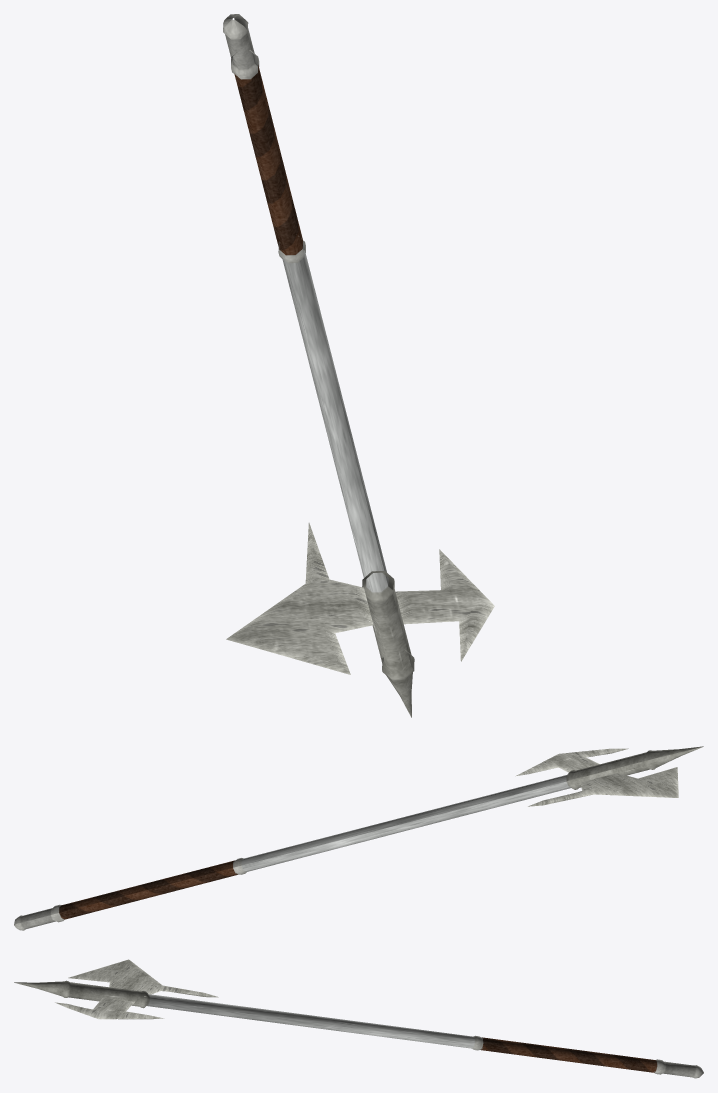
Rendered from mm9_guard_halberd.glb.
3 views of the same model, one above another, from view 1: azimuth 30°, elevation 25°; view 2: azimuth 150°, elevation 25°; view 3: azimuth 270°, elevation 25° (orthographic). The views are drawn at different scales.
Parts seen in each view (by area): view 1: Xbase; view 2: Xbase; view 3: Xbase.
Part boxes in pixels (x1,y1,x2,y2): Xbase: (223, 14, 494, 717); Xbase: (14, 746, 703, 930); Xbase: (14, 959, 703, 1078).
Bounding box in the file's own units: 0.9241 × 0.1338 × 1.88.
Materials: 1 (1 with a texture image).
